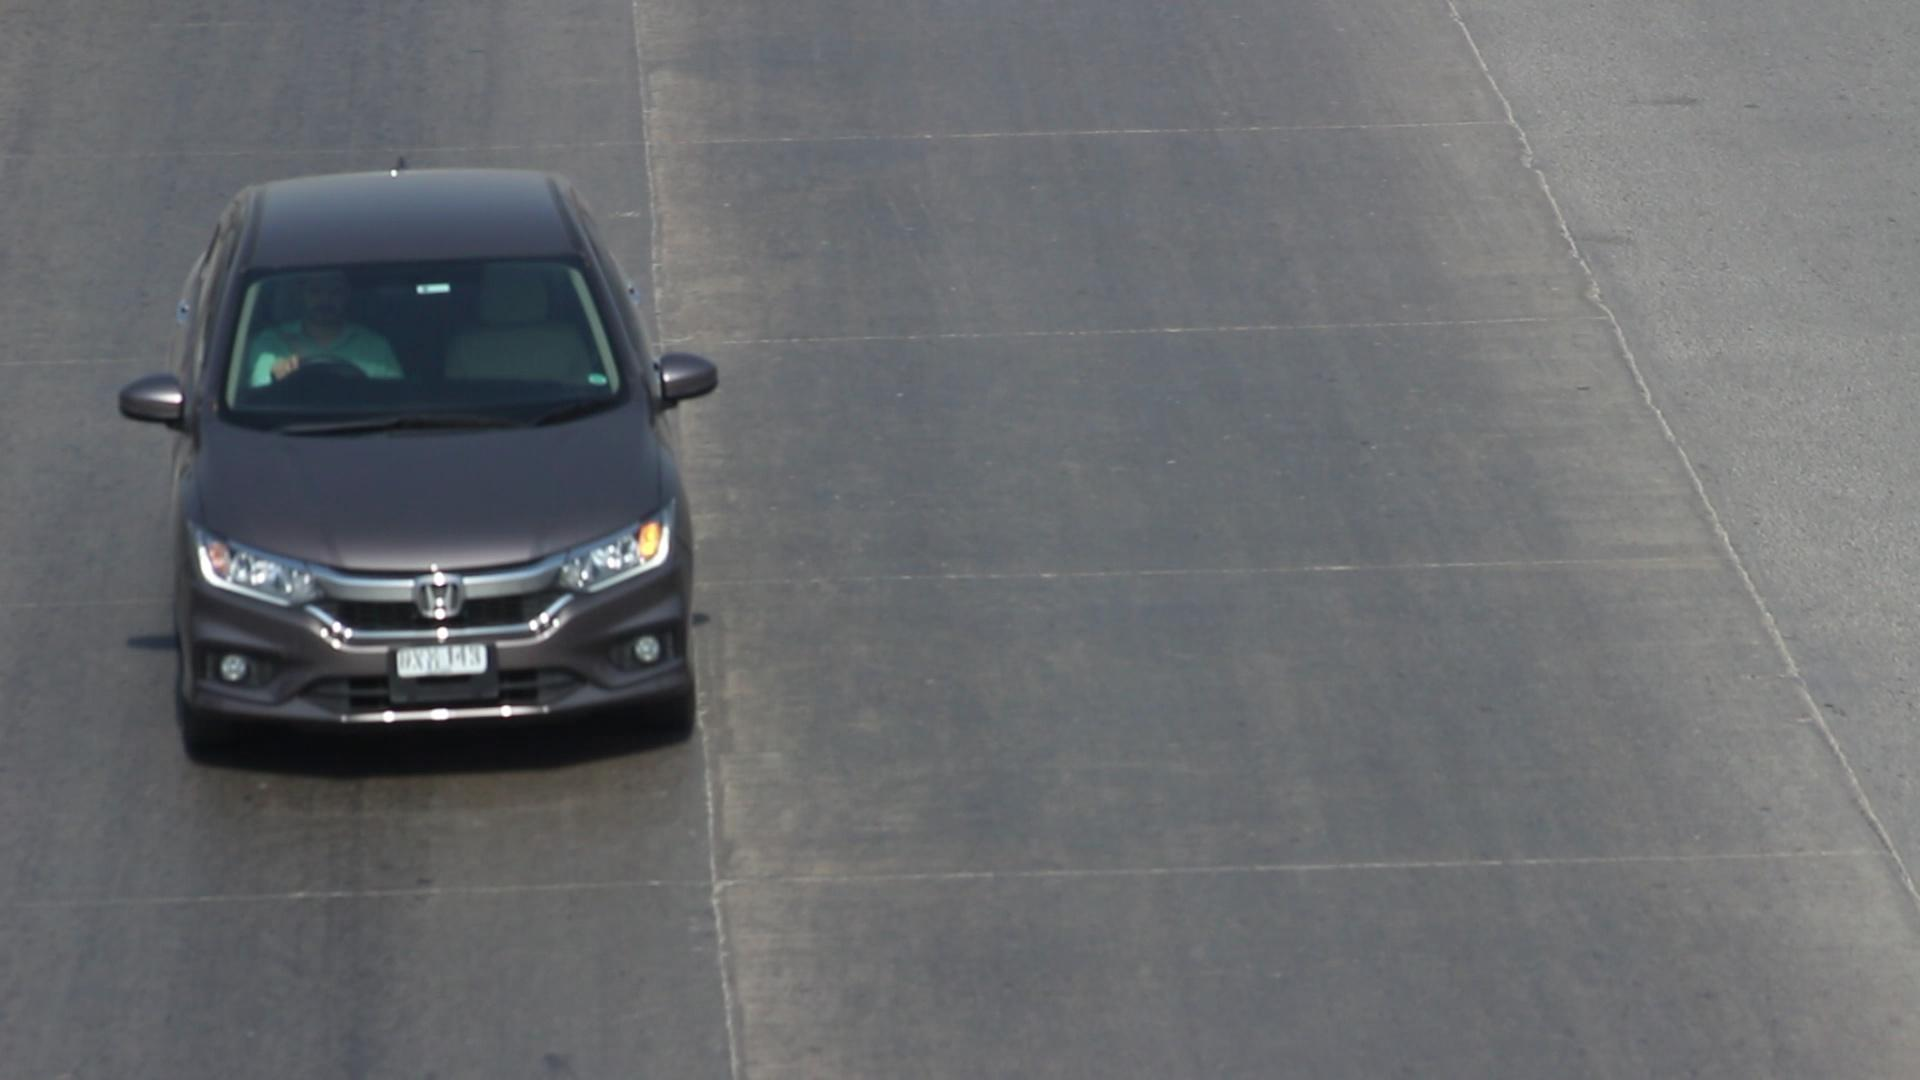windshield: (218, 244, 650, 434)
